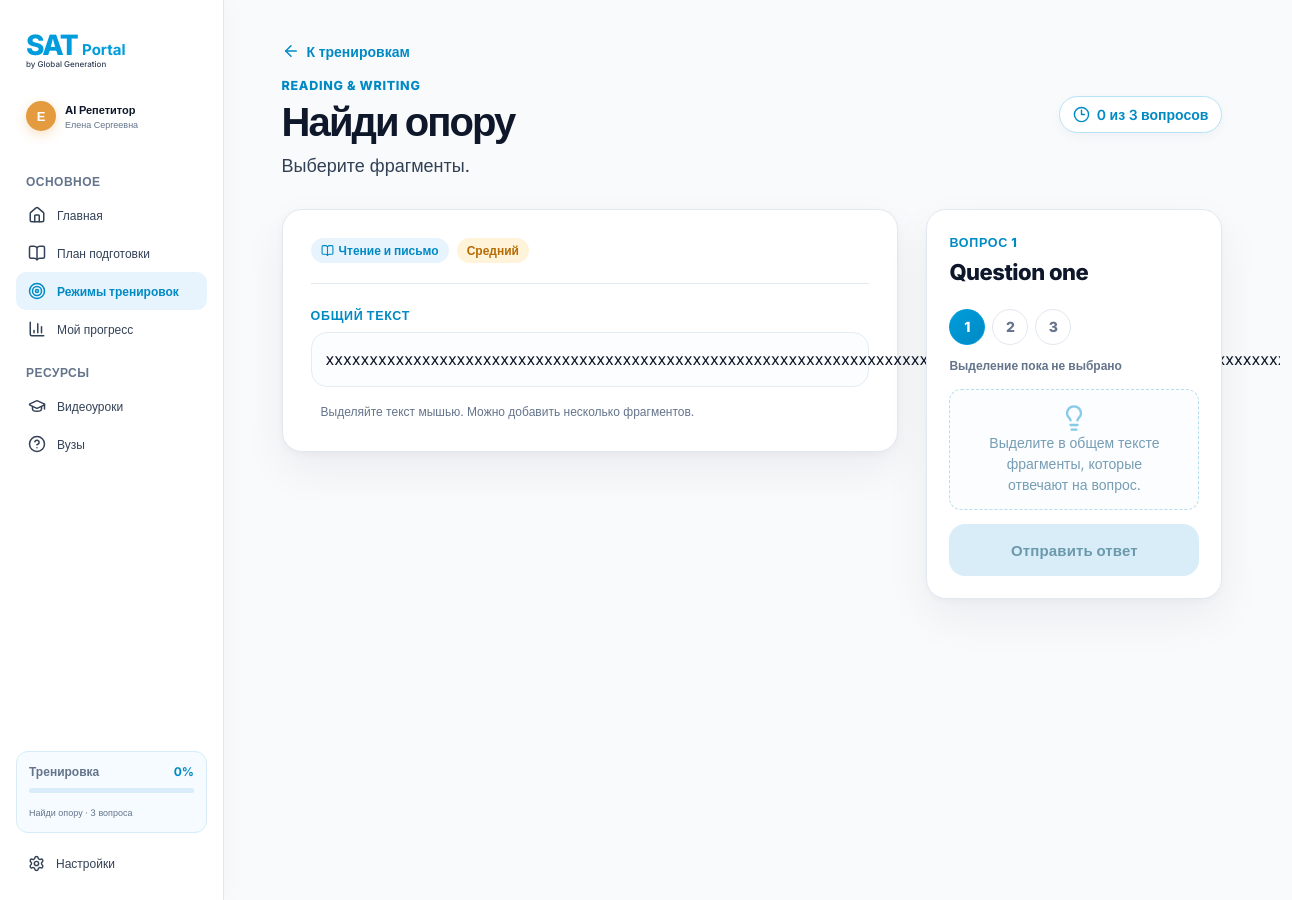
Scenario: App › navigates between questions and resets exercise
This screenshot has width=1292, height=900.
Expected: the heading "Найди опору" is shown, [282,97,514,146]
Click the button named "Вопрос 2". click: (1010, 327)
box: [992,309,1028,345]
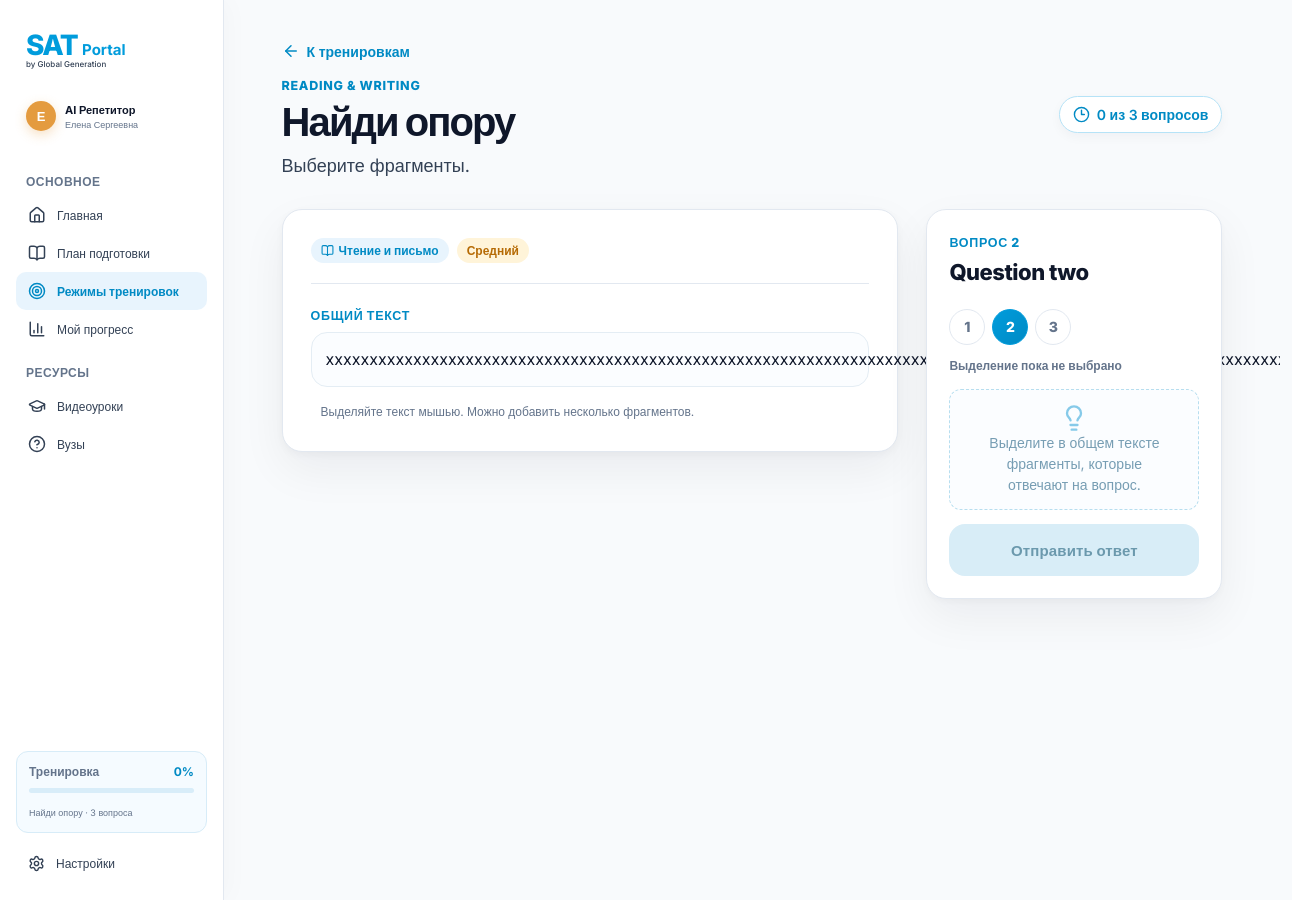
Now the heading "Question two" is shown, box [949,259,1089,285]
Click the button "К тренировкам". click: (346, 51)
box: [282,42,410,60]
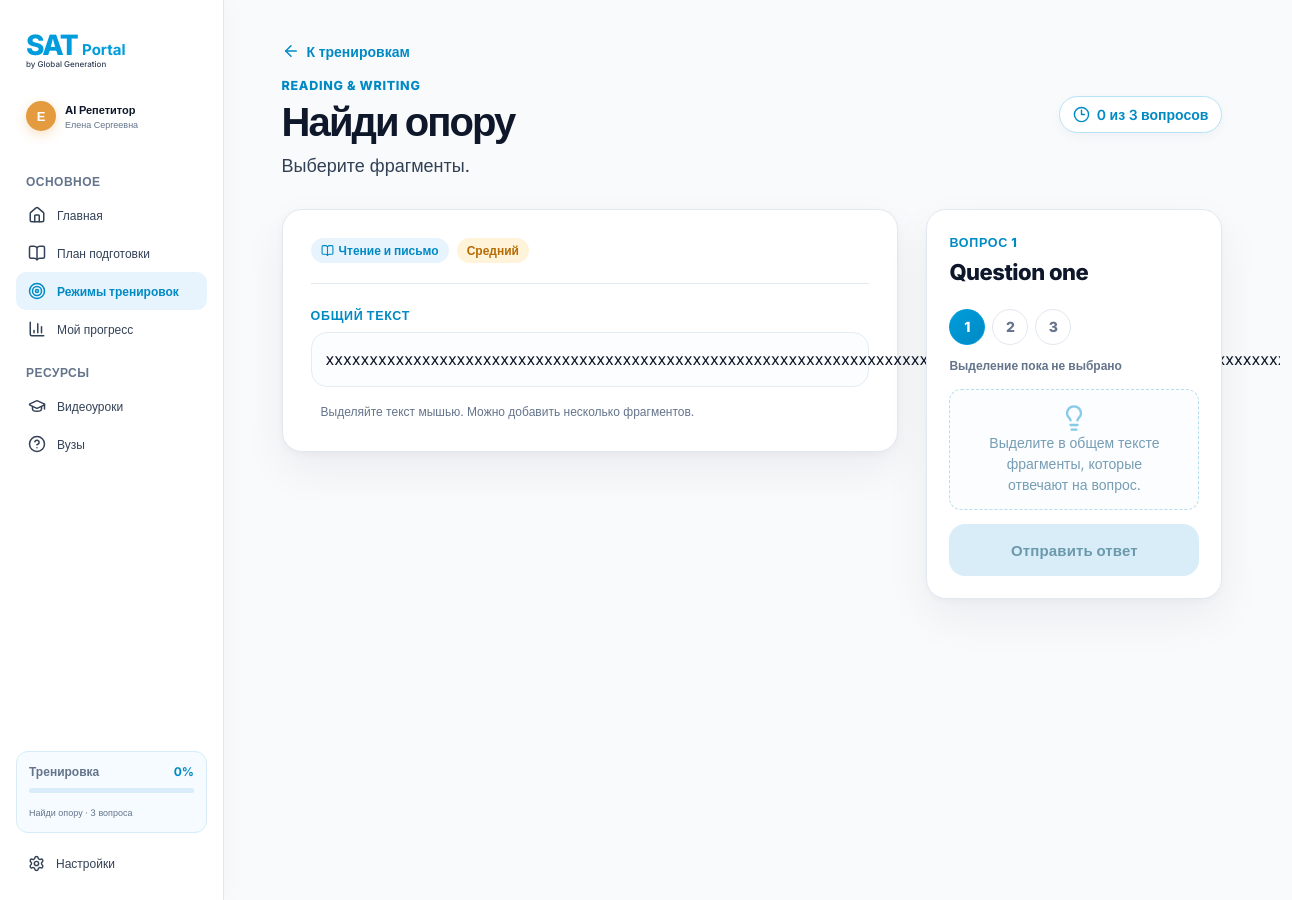
Expected: the text "0 из 3 вопросов" is shown, [1059,96,1222,133]
Now the heading "Question one" is shown, box [949,259,1088,285]
